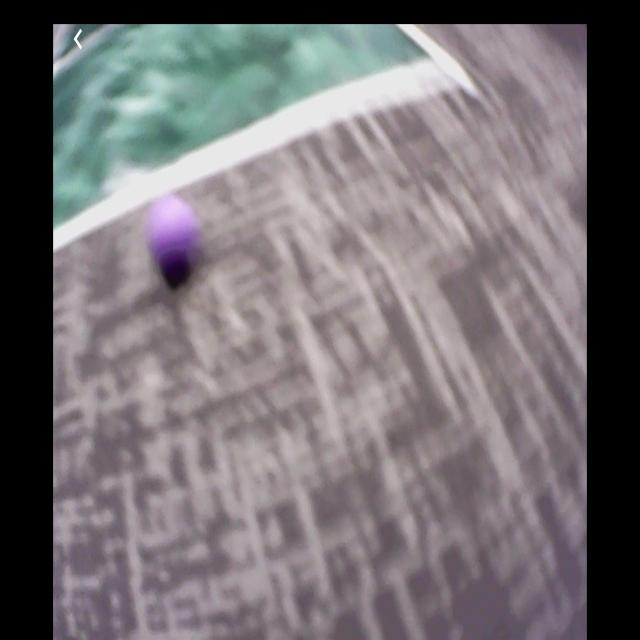ball: (148, 196, 199, 261)
